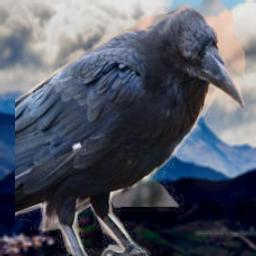Crow: (15, 0, 245, 256)
